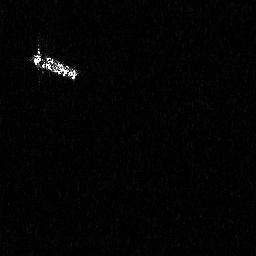ship: (31, 40, 81, 85)
